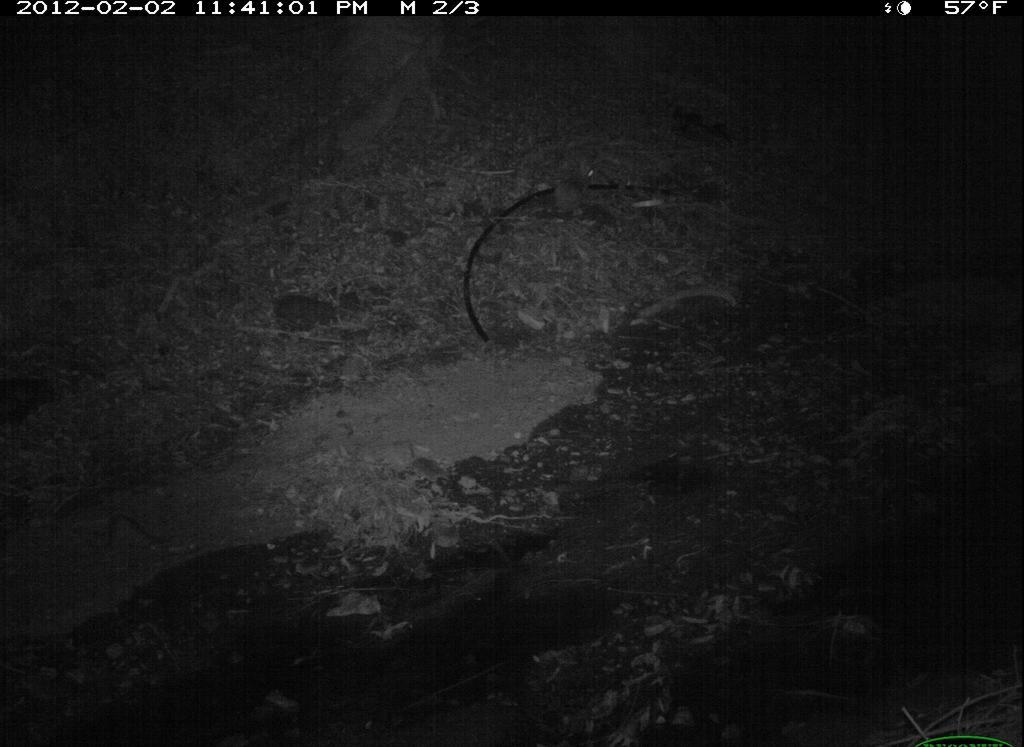rabbit: (548, 154, 608, 218)
